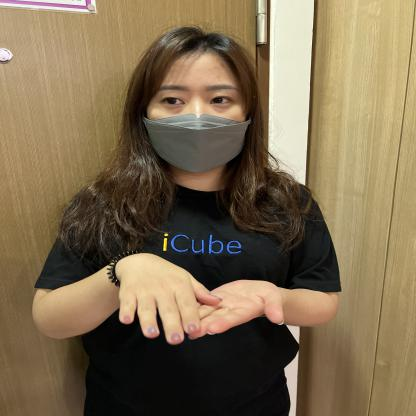Love: (42, 221, 321, 355)
